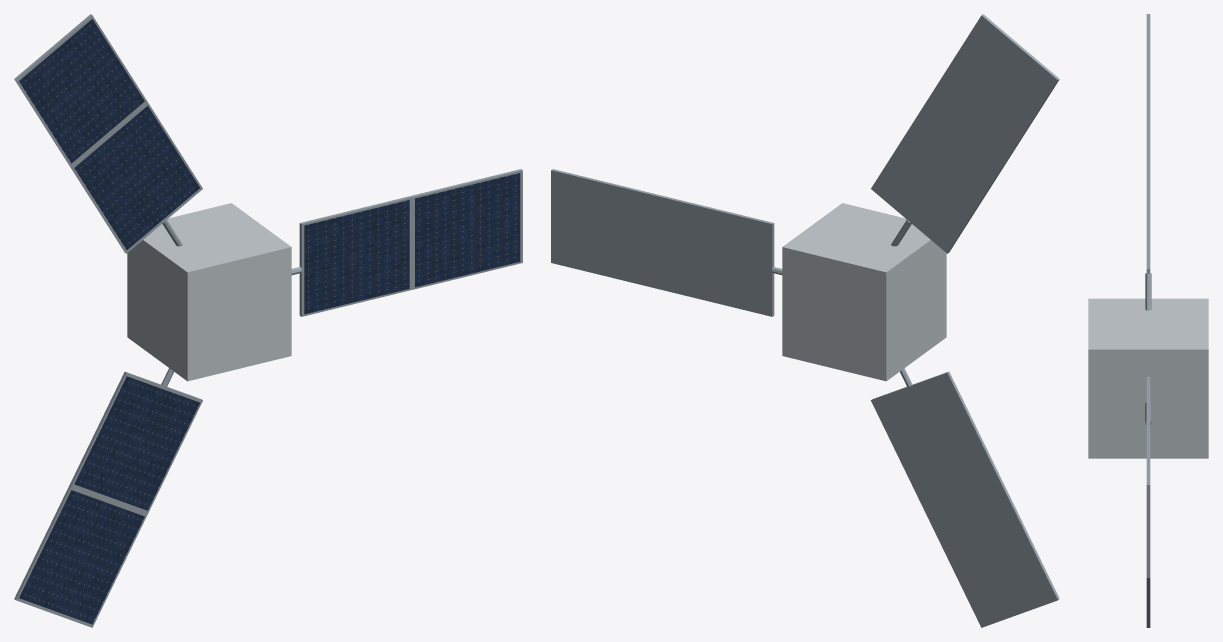
Rendered from ref-mn200s-58823.glb.
3 renders of one model, left to right at view 1: azimuth 30°, elevation 25°; view 2: azimuth 150°, elevation 25°; view 3: azimuth 270°, elevation 25°, orthographic.
Parts seen in each view (by area): view 1: Photovoltaic laminates (×6), Spacecraft body, Array frame (×6); view 2: Array frame (×6), Spacecraft body; view 3: Spacecraft body, Array frame (×5), Solar array drive.
Boxes of the visible parts, x1,y1,x2,y2 form: Photovoltaic laminates (×6): [19, 19, 520, 624]; Spacecraft body: [127, 203, 291, 381]; Array frame (×6): [14, 14, 522, 627]; Array frame (×6): [551, 14, 1059, 627]; Spacecraft body: [782, 203, 946, 381]; Spacecraft body: [1088, 298, 1208, 458]; Array frame (×5): [1146, 14, 1150, 627]; Solar array drive: [1145, 273, 1151, 310].
Size of the model in its own units: 4.87 by 5.62 by 1.
Materials: 3 (1 with a texture image).
